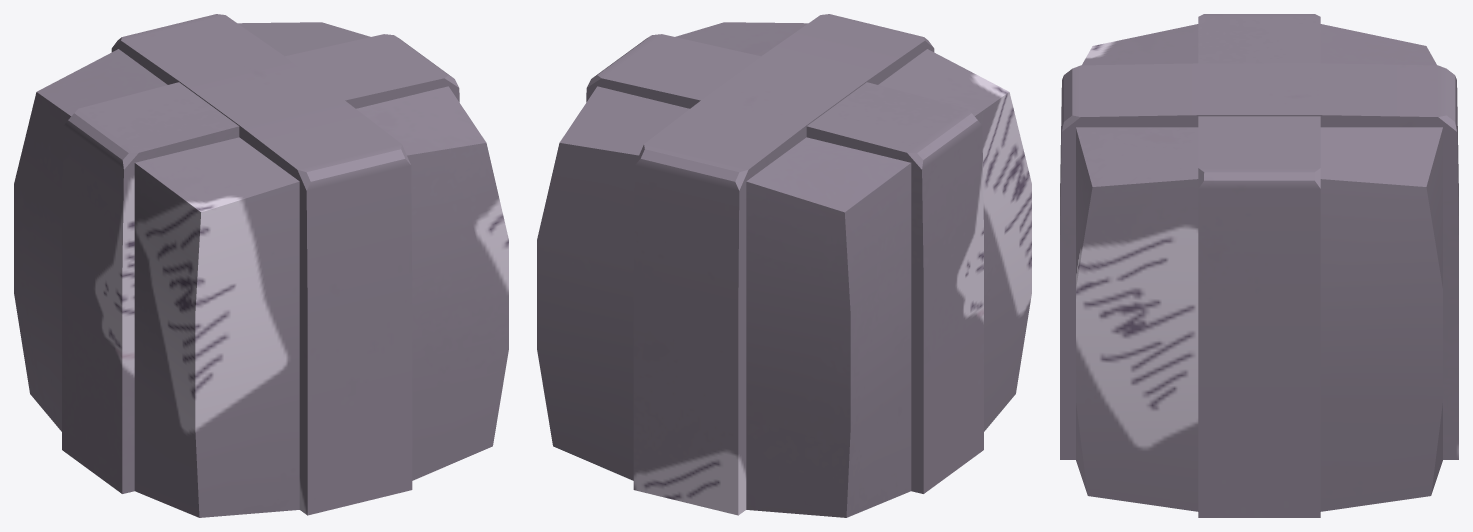
The model's file is Cardboard_Box.fbx.
3 views of the same model, side by side, from view 1: azimuth 30°, elevation 25°; view 2: azimuth 150°, elevation 25°; view 3: azimuth 270°, elevation 25° (orthographic).
Visible parts, largest first — view 1: CardboardBox; view 2: CardboardBox; view 3: CardboardBox.
Part boxes in pixels (<box>): CardboardBox: <box>14,14,508,517</box>; CardboardBox: <box>537,14,1031,517</box>; CardboardBox: <box>1060,14,1458,517</box>.
Size of the model in its own units: 9.62 by 9.24 by 9.68.
